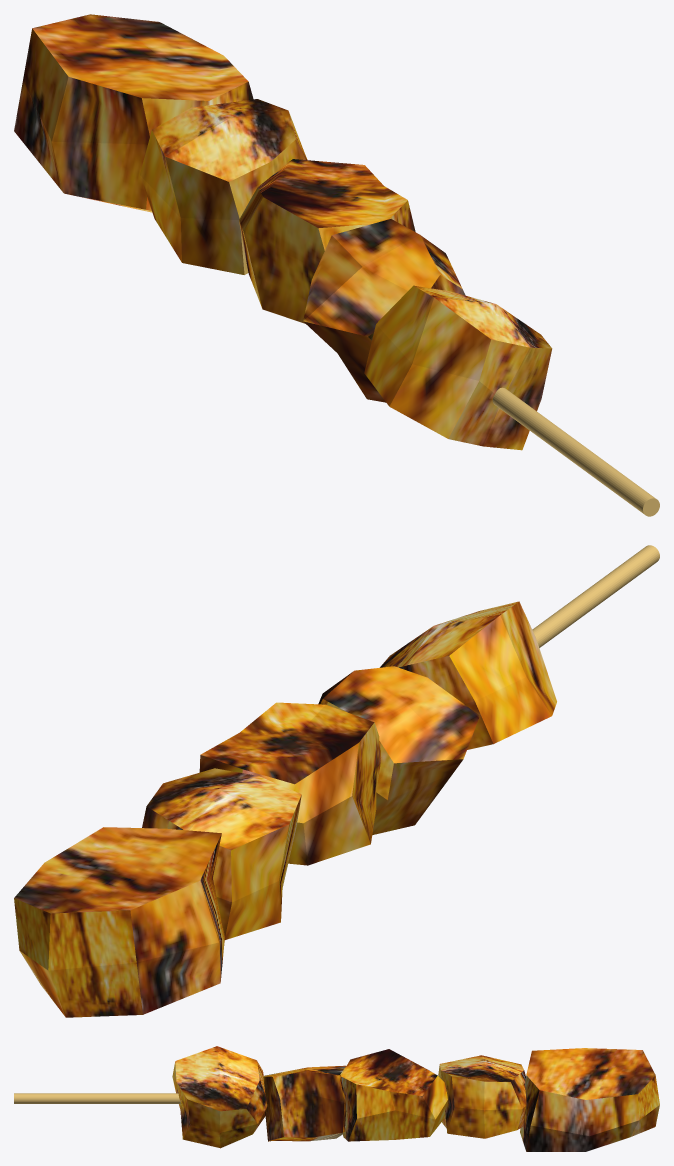
File: chickensatay5.fbx
The picture shows the model from 3 angles, top to bottom: view 1: azimuth 30°, elevation 25°; view 2: azimuth 150°, elevation 25°; view 3: azimuth 270°, elevation 25°; orthographic projection. The views are drawn at different scales.
Visible parts, largest first — view 1: Csatay5piecejoined; view 2: Csatay5piecejoined; view 3: Csatay5piecejoined.
Boxes of the visible parts, x1=… form: Csatay5piecejoined: x1=14, y1=14, x2=659, y2=516; Csatay5piecejoined: x1=14, y1=545, x2=659, y2=1017; Csatay5piecejoined: x1=14, y1=1046, x2=659, y2=1151.
Size of the model in its own units: 152 by 125 by 836.
Materials: 2 (1 with a texture image).
